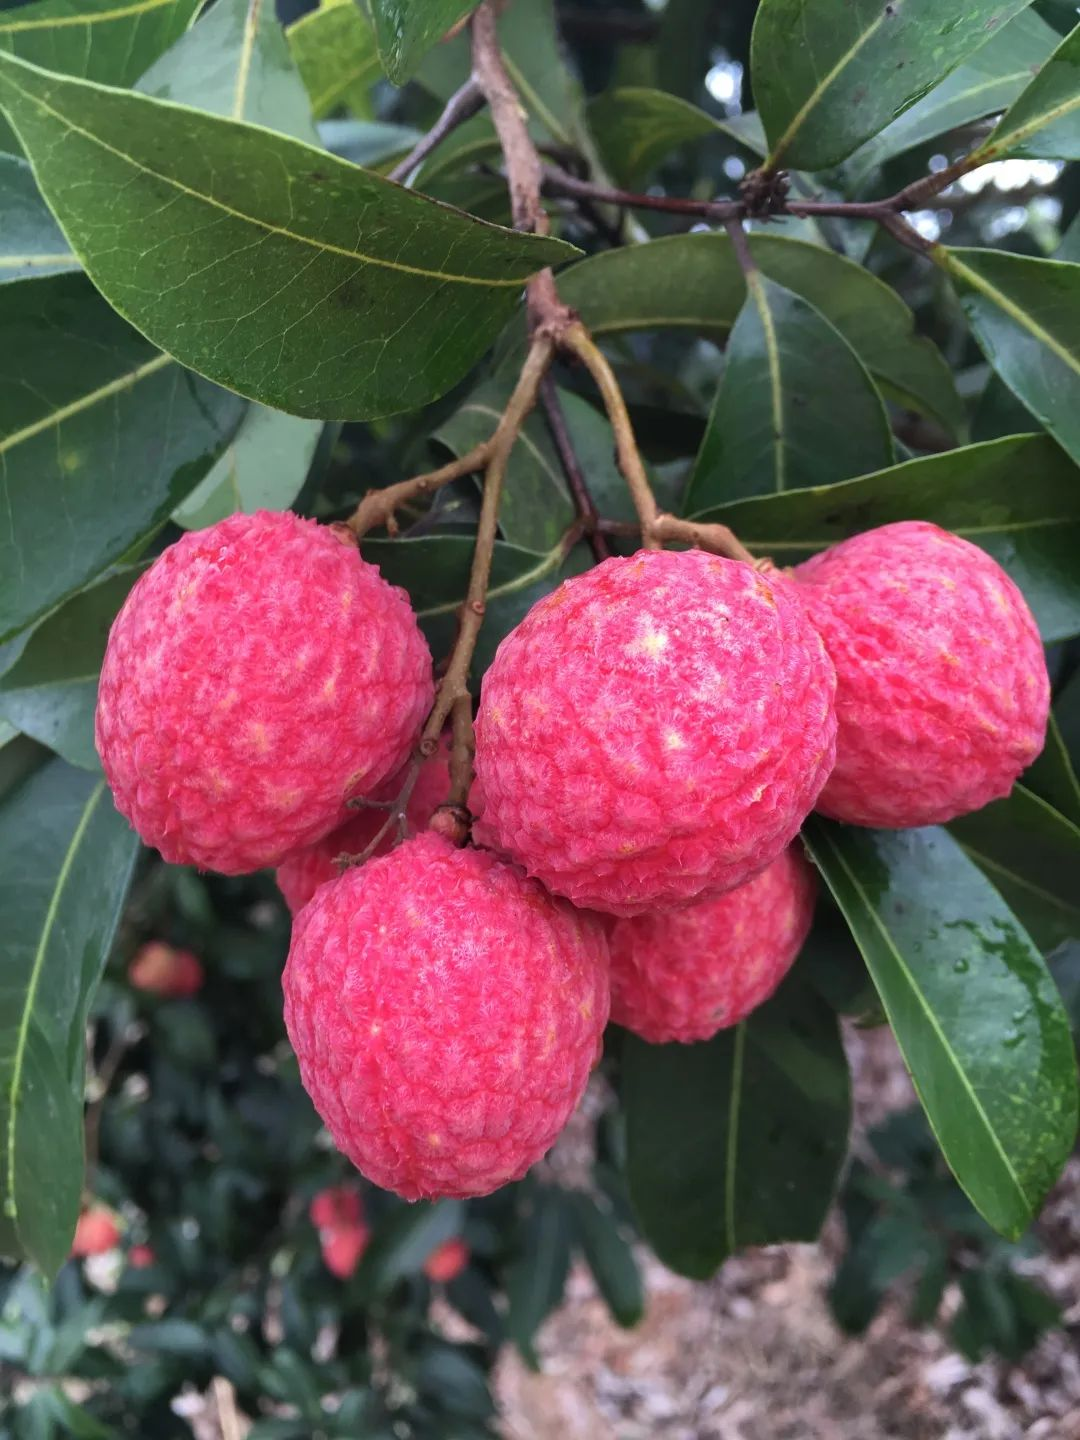litchi: (133, 506, 1010, 1196)
stem: (467, 1, 597, 357)
